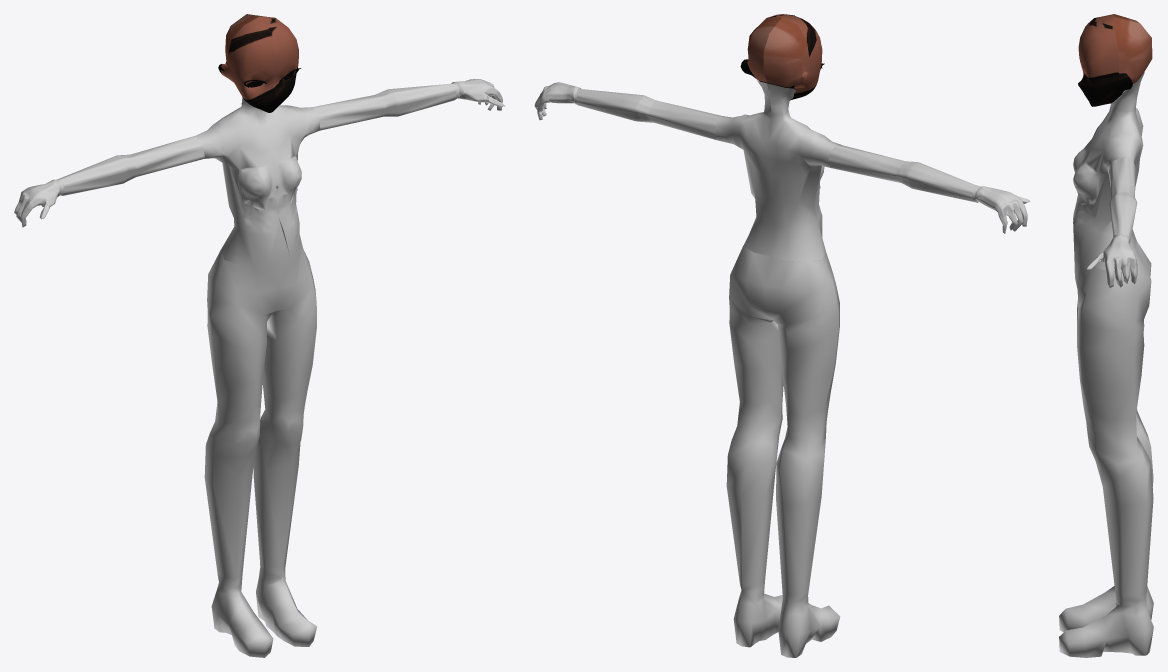
Rendered from Izzy.obj.
The picture shows the model from 3 angles, left to right: view 1: azimuth 30°, elevation 25°; view 2: azimuth 150°, elevation 25°; view 3: azimuth 270°, elevation 25°; orthographic projection.
Parts seen in each view (by area): view 1: Regroup00; view 2: Regroup00; view 3: Regroup00.
Boxes of the visible parts, x1,y1,x2,y2 form: Regroup00: (14,14,504,657); Regroup00: (534,14,1030,657); Regroup00: (1059,14,1153,657).
Size of the model in its own units: 8.86 by 10.81 by 1.49.
